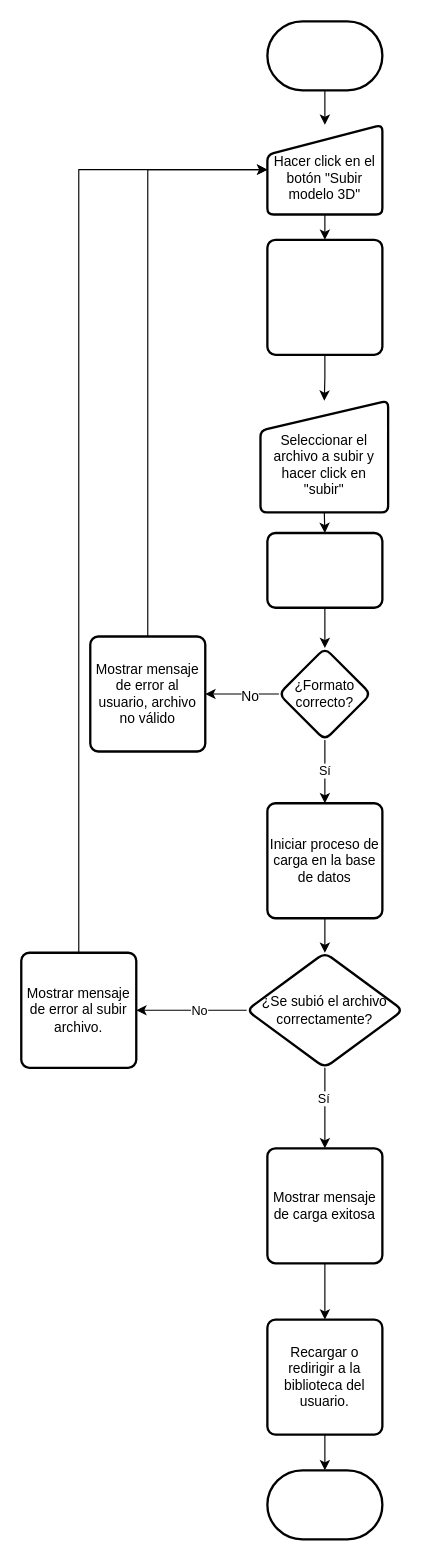
Some shapes in this 423 by 1559 pixel diagram are drawn without their labels. Here are the shapes that lost their labels. From the top down, the box of each, then its label:
(266, 20, 383, 91): Inicio
(266, 238, 383, 355): Abrir ventana de carga
(266, 531, 383, 608): Verificar formato del archivo
(266, 1469, 383, 1540): Fin
